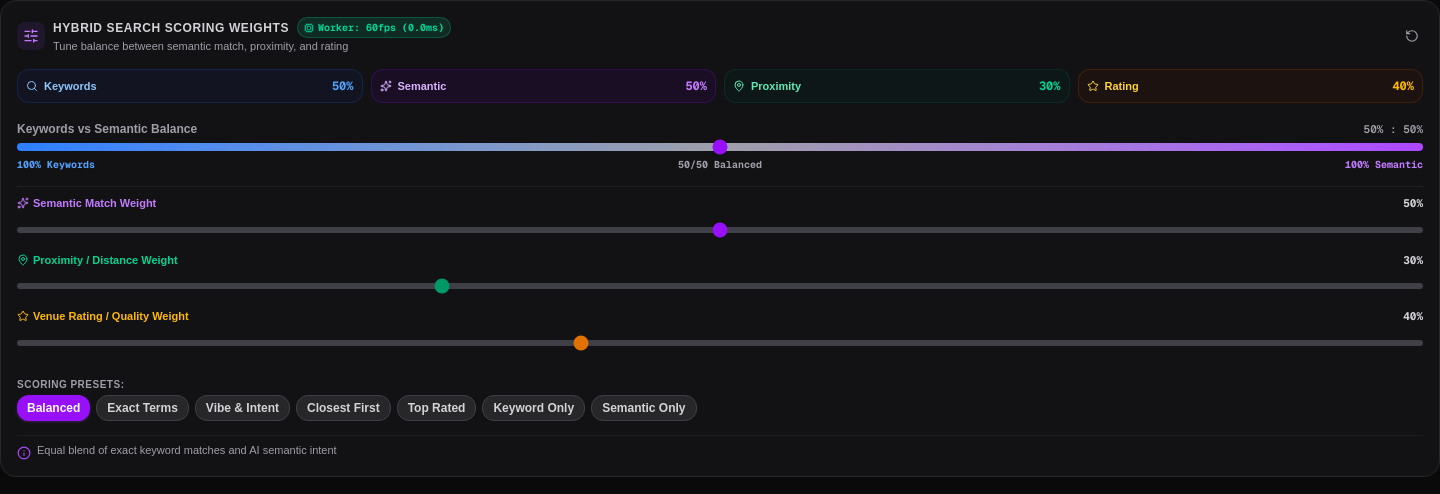
Test: HybridSearchWeightSlider Component › adjusts individual multi-criteria sliders for proximity and rating
Set the slider with test id "proximity-weight-slider" to "75" at [1068, 286], box left=17, top=283, right=1423, bottom=289
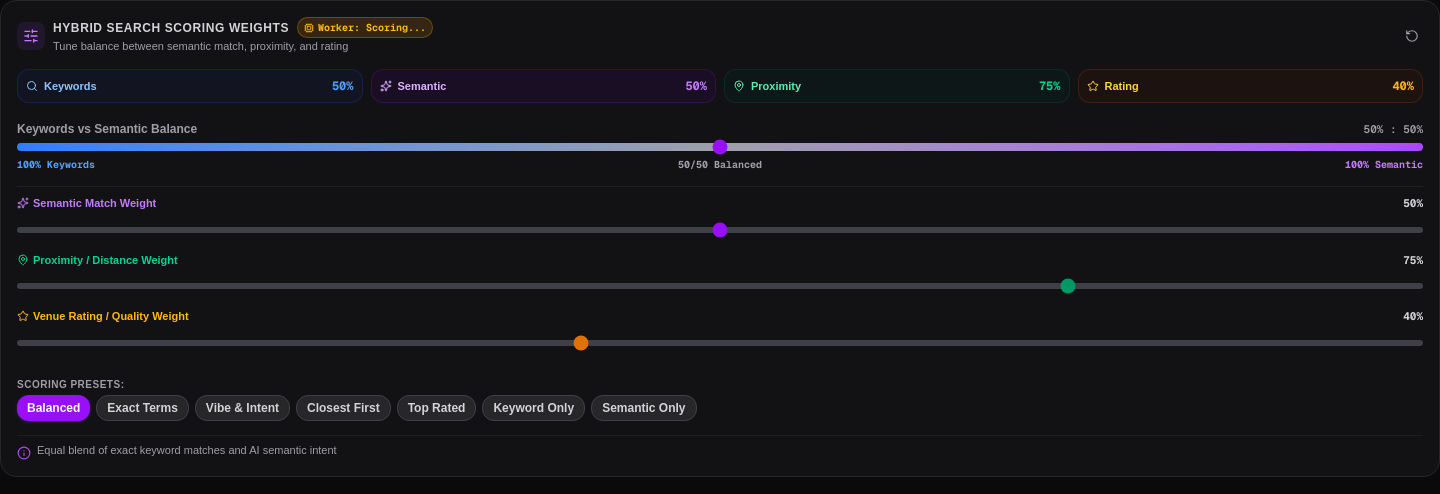
Result: the element with test id "proximity-weight-badge" shows "75%" at left=724, top=68, right=1070, bottom=103
Set the slider with test id "rating-weight-slider" to "90" at [1276, 342], box left=17, top=340, right=1423, bottom=346
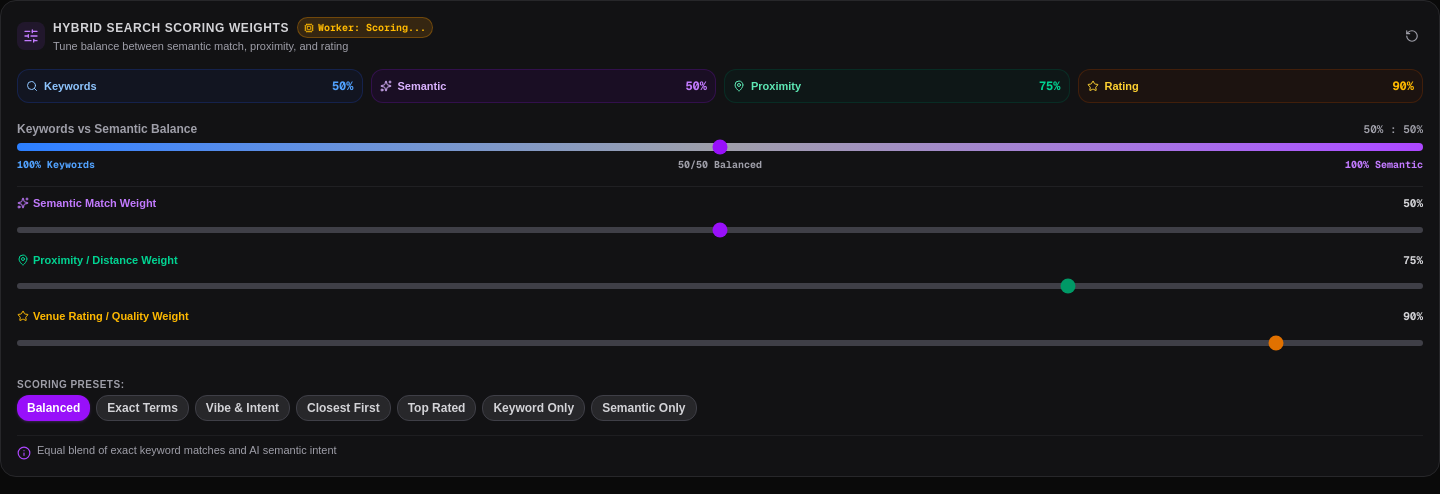
Result: the element with test id "rating-weight-badge" shows "90%" at left=1078, top=68, right=1423, bottom=103
